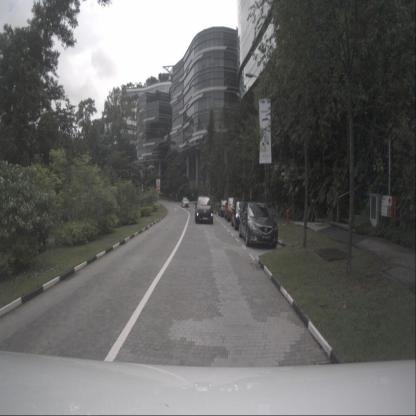human-pedestrian-adult: (241, 192, 246, 212), (191, 192, 194, 201)
vehicle-car: (239, 202, 278, 249), (231, 200, 255, 231), (195, 195, 213, 224), (224, 196, 243, 222), (218, 197, 231, 217), (181, 196, 190, 208)
